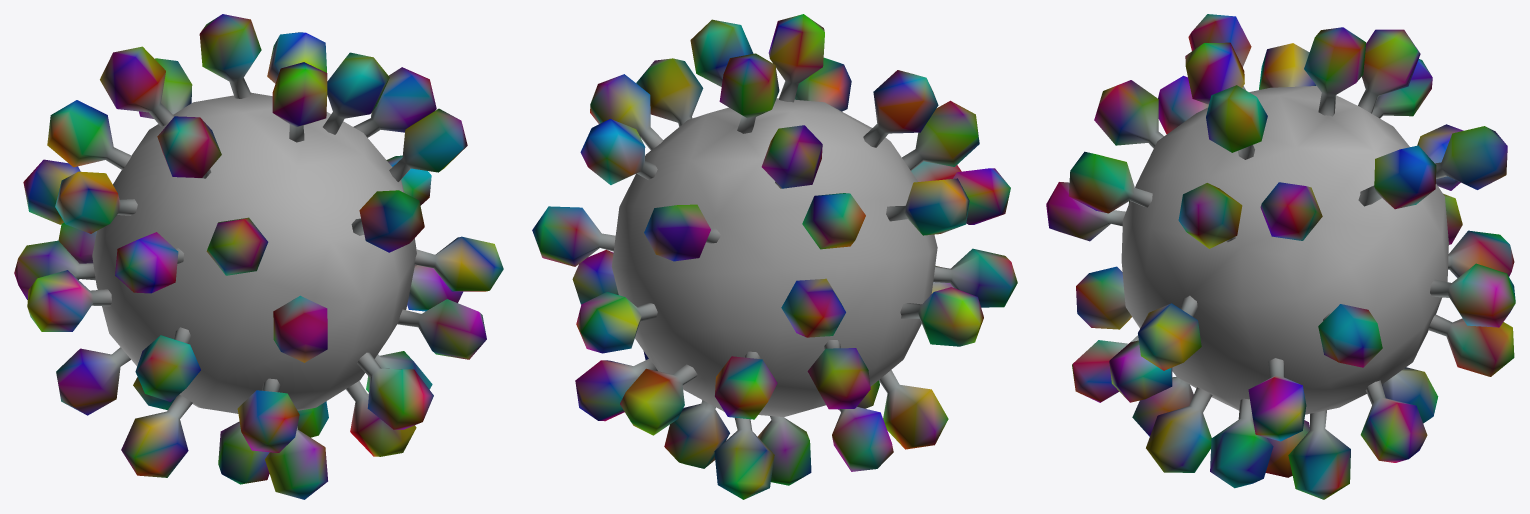
The model's file is microscopic-viruses-coronavirus_v2.glb.
3 renders of one model, left to right at view 1: azimuth 30°, elevation 25°; view 2: azimuth 150°, elevation 25°; view 3: azimuth 270°, elevation 25°, orthographic.
Parts seen in each view (by area): view 1: Coronavirus_v2; view 2: Coronavirus_v2; view 3: Coronavirus_v2.
Boxes of the visible parts, x1,y1,x2,y2 form: Coronavirus_v2: [14, 14, 503, 499]; Coronavirus_v2: [532, 14, 1017, 499]; Coronavirus_v2: [1046, 14, 1515, 499].
Bounding box in the file's own units: 0.1186 × 0.12 × 0.1132.
